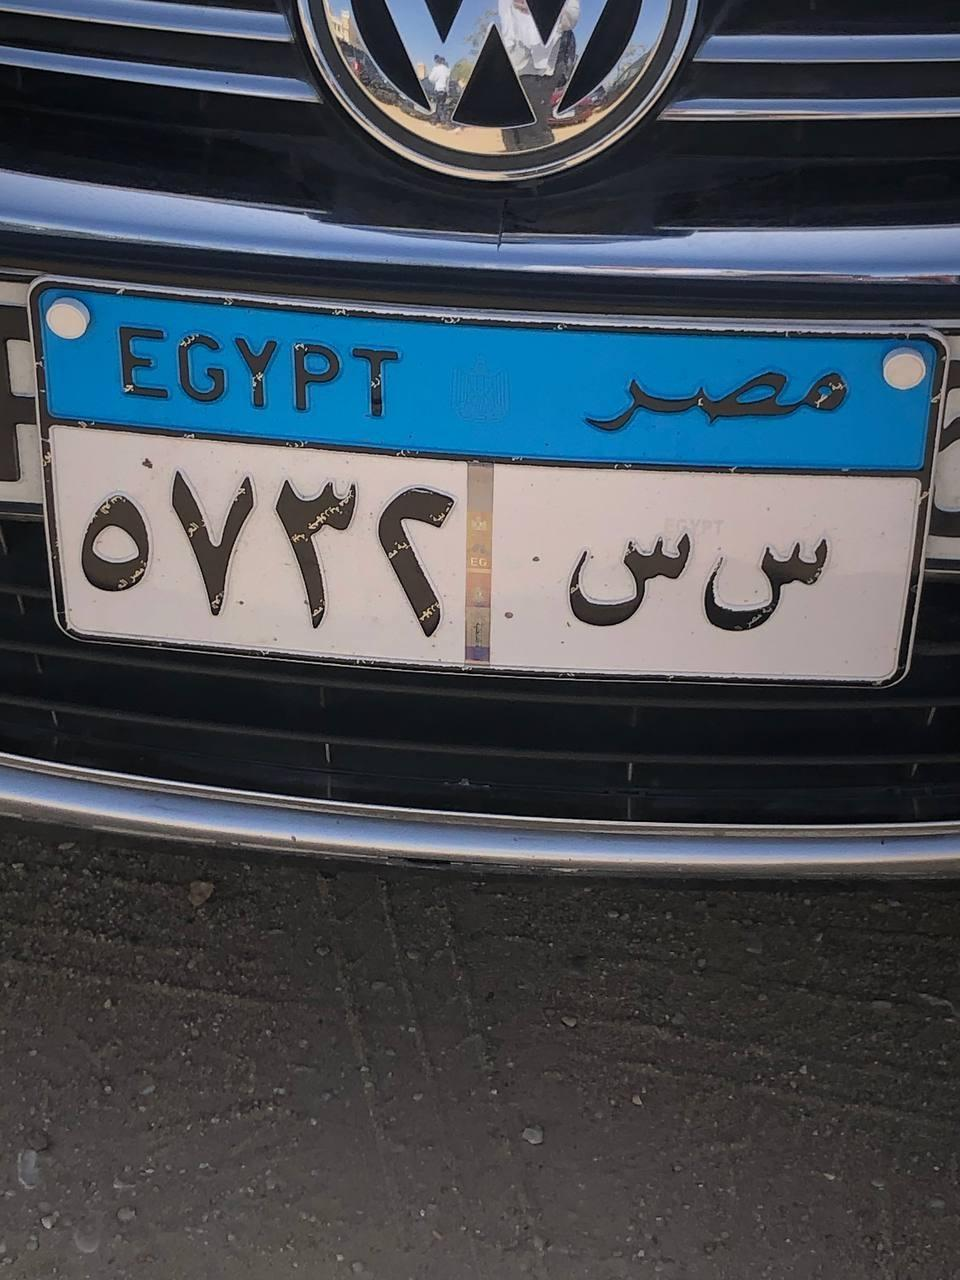2: (379, 472, 448, 638)
3: (266, 463, 358, 634)
5: (73, 483, 153, 600)
7: (156, 468, 258, 624)
License Plate: (36, 268, 960, 720)
Seen: (698, 524, 860, 666), (558, 518, 701, 650)
